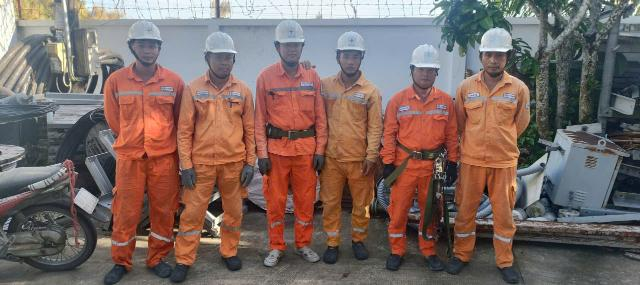gloves: (179, 161, 206, 190), (379, 160, 402, 187), (249, 153, 274, 177), (237, 160, 256, 191), (445, 160, 460, 189), (308, 149, 323, 174)
harness: (388, 136, 454, 164), (256, 121, 325, 147)
helmet: (120, 12, 171, 46), (472, 26, 520, 59), (200, 29, 244, 60), (408, 39, 444, 73), (272, 16, 307, 50), (334, 28, 371, 55)
shoes: (493, 258, 530, 285), (291, 241, 323, 269), (103, 257, 133, 285), (383, 246, 409, 277), (320, 239, 345, 267), (421, 250, 446, 275), (263, 245, 285, 270), (219, 254, 244, 275), (353, 237, 371, 265), (449, 250, 467, 278), (150, 256, 172, 278), (170, 261, 190, 283)
